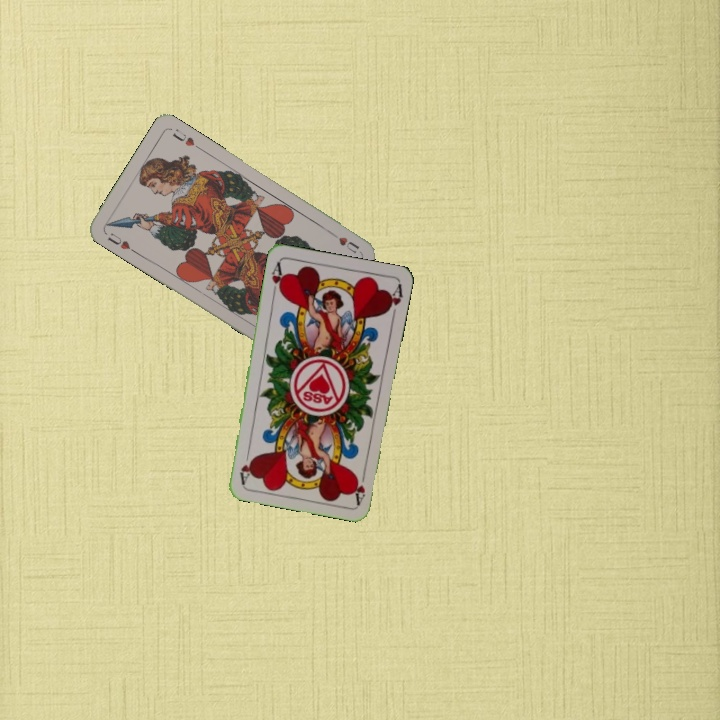HA: (267, 258, 287, 298), (349, 466, 368, 506)
HU: (325, 227, 361, 256), (103, 229, 138, 255)
